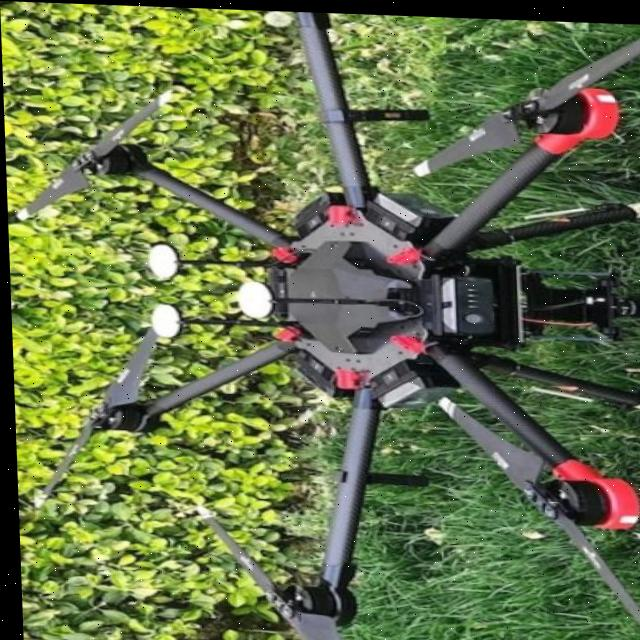drones: (3, 0, 640, 640)
